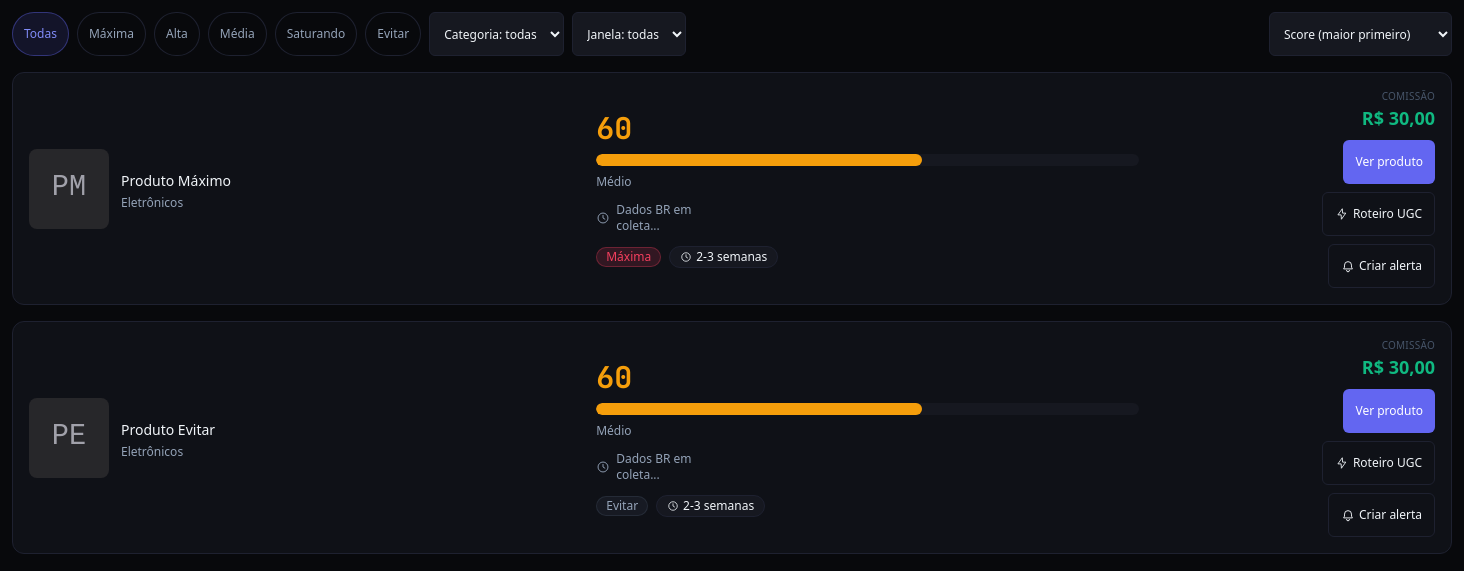
it: <OpportunitiesView /> — PRO › 'Todas' limpa o filtro de classificação
Click the button "Máxima".
click(112, 34)  # box [77, 12, 146, 56]
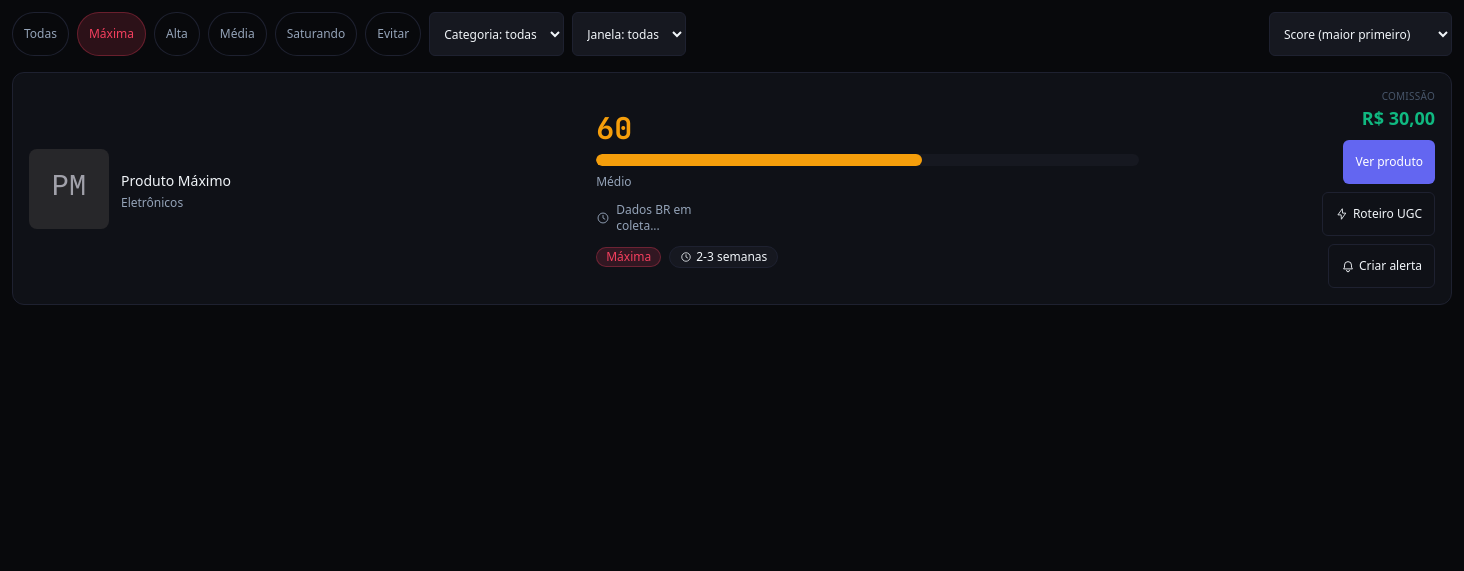
Click the button "Todas".
click(40, 34)  # box [12, 12, 69, 56]
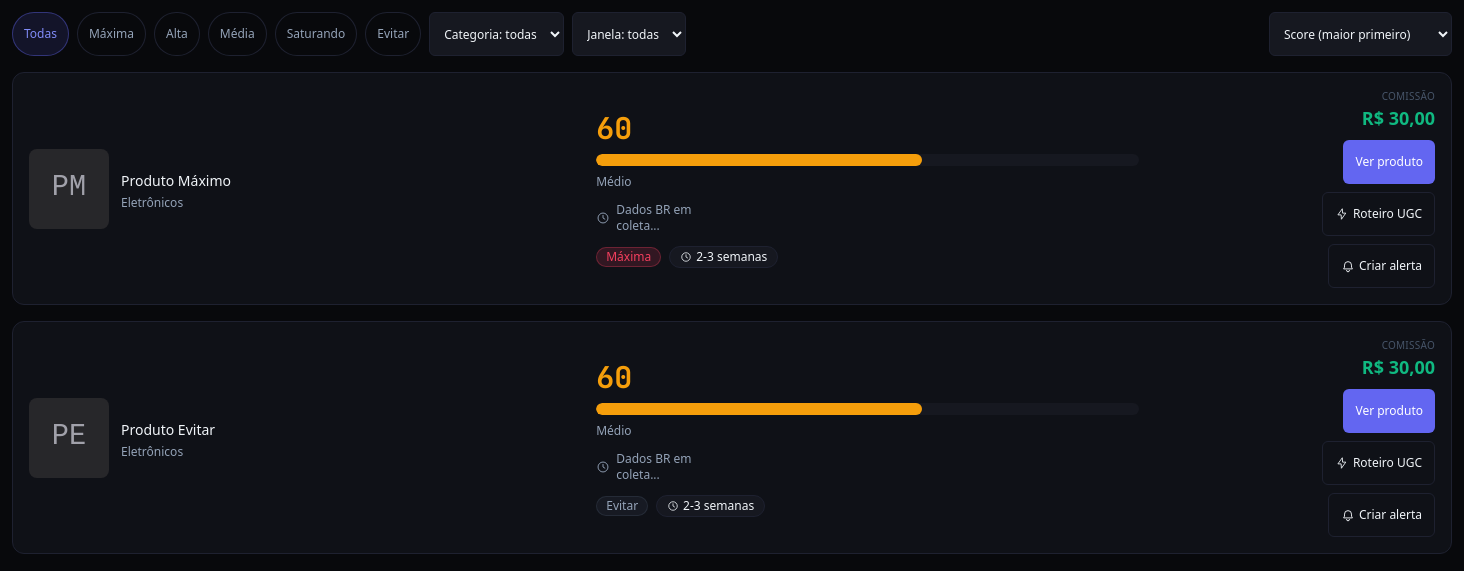
Expected: the text "Produto Máximo" is shown, [121, 170, 231, 190]
Now the text "Produto Evitar" is shown, box [121, 420, 215, 440]
